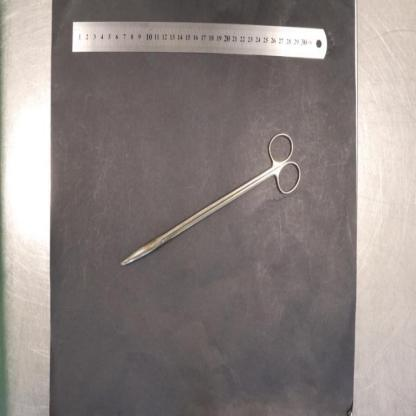9 Metzenbaum Scissors: (121, 132, 302, 266)
